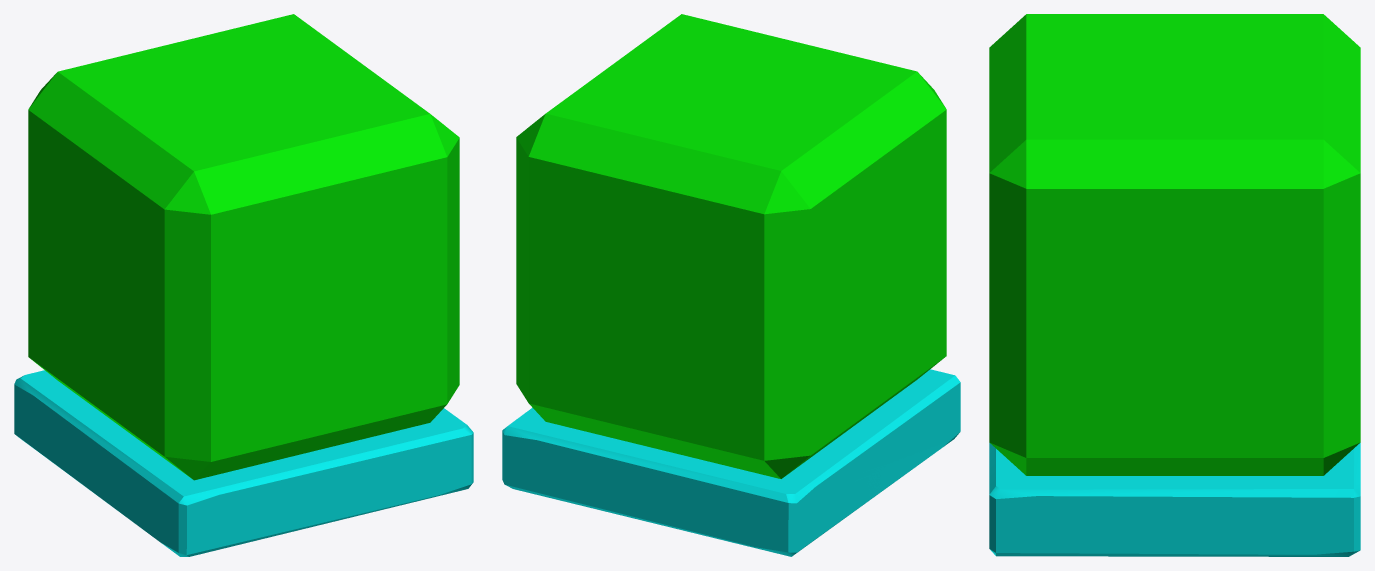
Rendered from Wall.fbx.
The picture shows the model from 3 angles, left to right: view 1: azimuth 30°, elevation 25°; view 2: azimuth 150°, elevation 25°; view 3: azimuth 270°, elevation 25°; orthographic projection. The views are drawn at different scales.
Parts seen in each view (by area): view 1: pCube1, Floor:pCube1; view 2: pCube1, Floor:pCube1; view 3: pCube1, Floor:pCube1.
Boxes of the visible parts, box(x1,y1,x2,y2) form: pCube1: box(28, 14, 459, 480); Floor:pCube1: box(14, 370, 473, 556); pCube1: box(516, 14, 946, 478); Floor:pCube1: box(502, 369, 960, 556); pCube1: box(989, 14, 1360, 475); Floor:pCube1: box(989, 443, 1360, 556).
Size of the model in its own units: 1 by 1.2 by 1.
